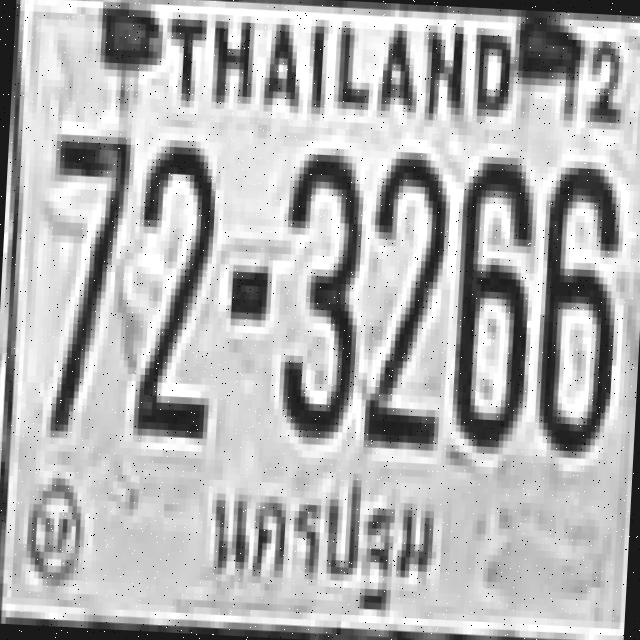2: (127, 139, 224, 440), (364, 148, 453, 448)
3: (272, 150, 368, 449)
6: (446, 148, 538, 454), (533, 163, 627, 460)
7: (39, 128, 129, 434)
NakhonPathom: (197, 457, 444, 627)
